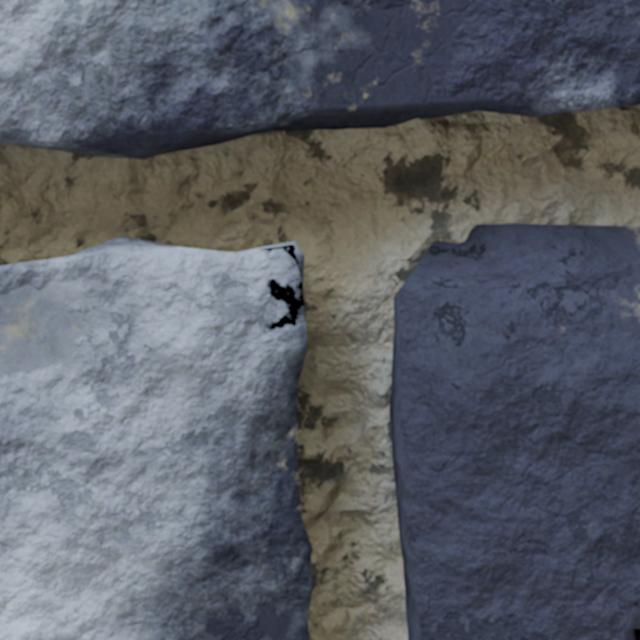brick: (0, 237, 312, 639), (0, 0, 639, 158)
broken_brick: (389, 223, 639, 639)
crack: (264, 274, 304, 330), (258, 243, 298, 266), (633, 628, 639, 639)
